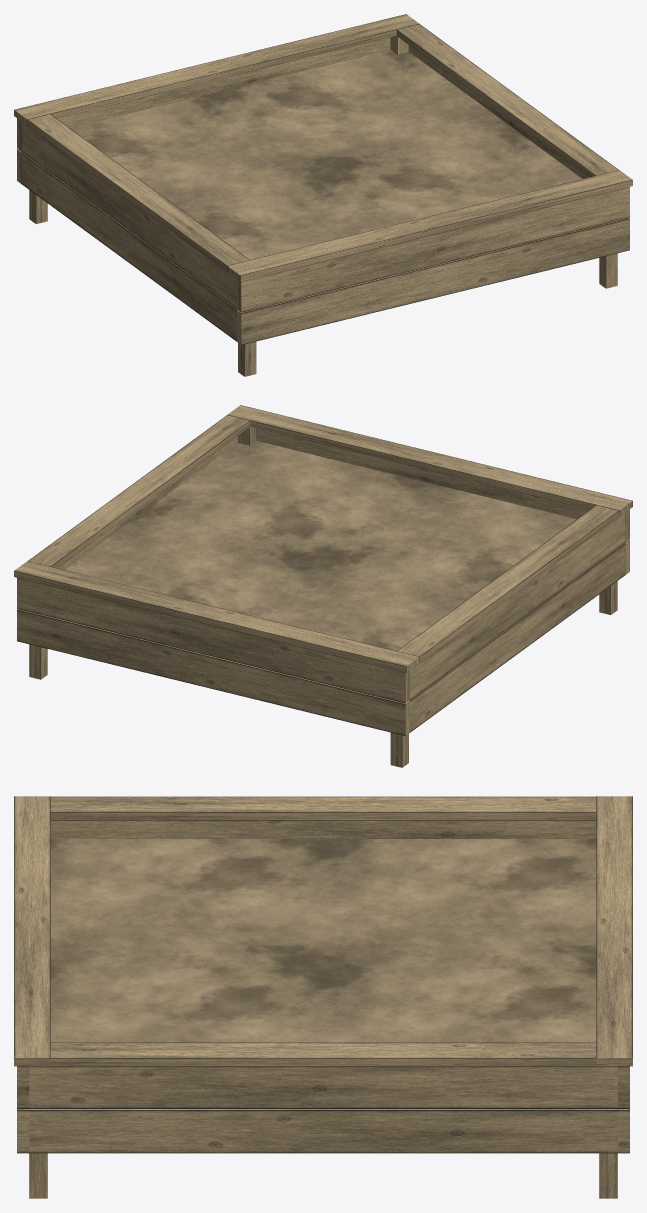
File: playground_sandbox_web.glb
The picture shows the model from 3 angles, top to bottom: view 1: azimuth 30°, elevation 25°; view 2: azimuth 150°, elevation 25°; view 3: azimuth 270°, elevation 25°; orthographic projection. The views are drawn at different scales.
Parts seen in each view (by area): view 1: Sandbox_Mesh; view 2: Sandbox_Mesh; view 3: Sandbox_Mesh.
Part boxes in pixels (x1=…): Sandbox_Mesh: x1=14, y1=14, x2=632, y2=376; Sandbox_Mesh: x1=14, y1=405, x2=632, y2=767; Sandbox_Mesh: x1=14, y1=796, x2=632, y2=1198.
Size of the model in its own units: 2.02 by 0.5301 by 2.02.
Materials: 2 (2 with a texture image).
